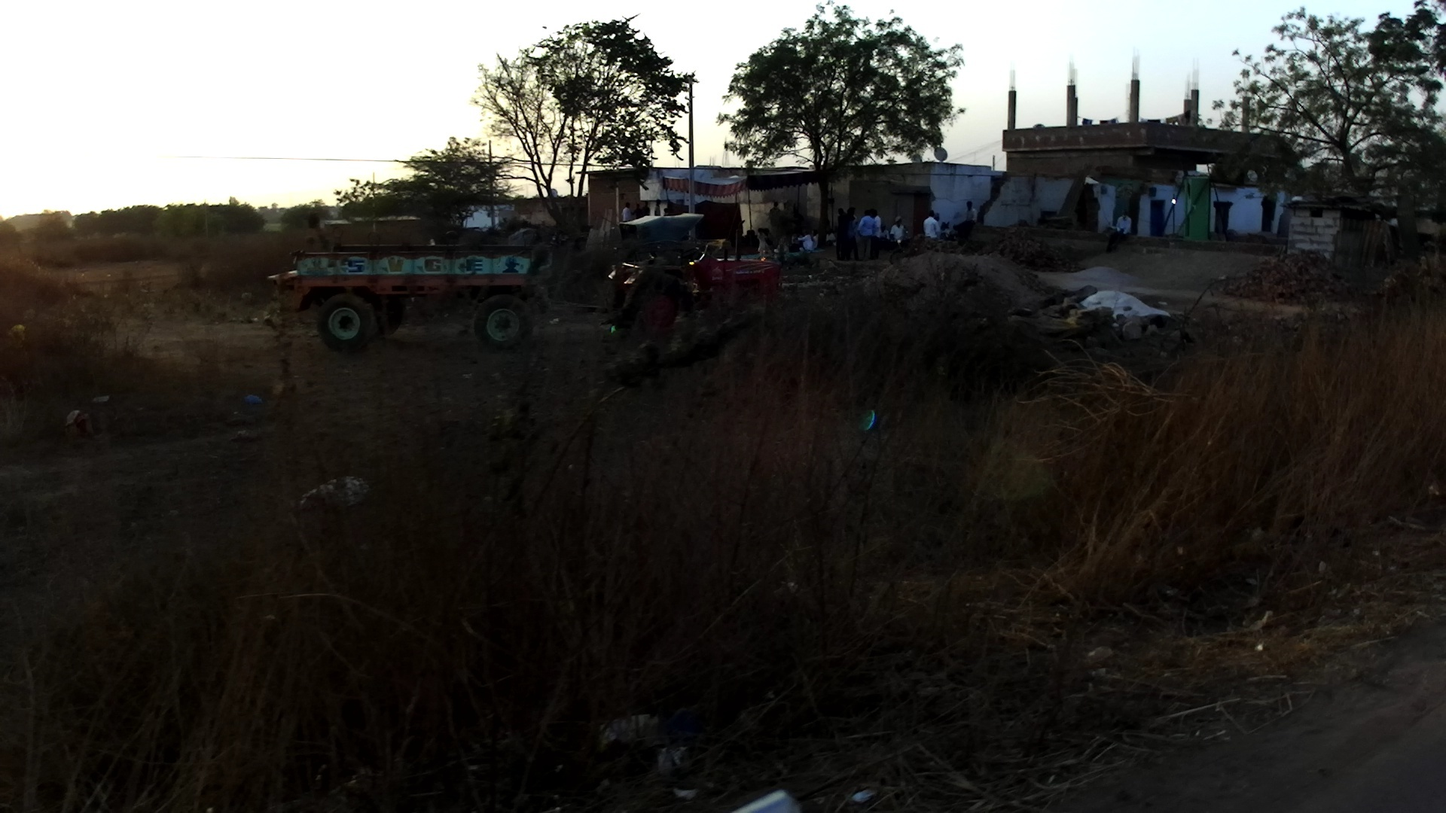motorcycle: (885, 233, 910, 260)
person: (1108, 209, 1134, 251), (856, 209, 876, 257), (958, 197, 980, 235), (834, 205, 849, 260), (869, 205, 883, 258), (846, 205, 859, 254), (923, 212, 940, 239), (889, 215, 907, 240), (798, 228, 815, 252), (619, 201, 633, 221), (810, 225, 820, 248), (632, 198, 643, 218), (640, 197, 651, 217), (654, 197, 662, 216), (767, 199, 782, 208), (880, 224, 889, 239), (825, 227, 831, 245), (764, 227, 773, 236), (934, 210, 940, 220)
vehicle fallback: (266, 211, 784, 360)
